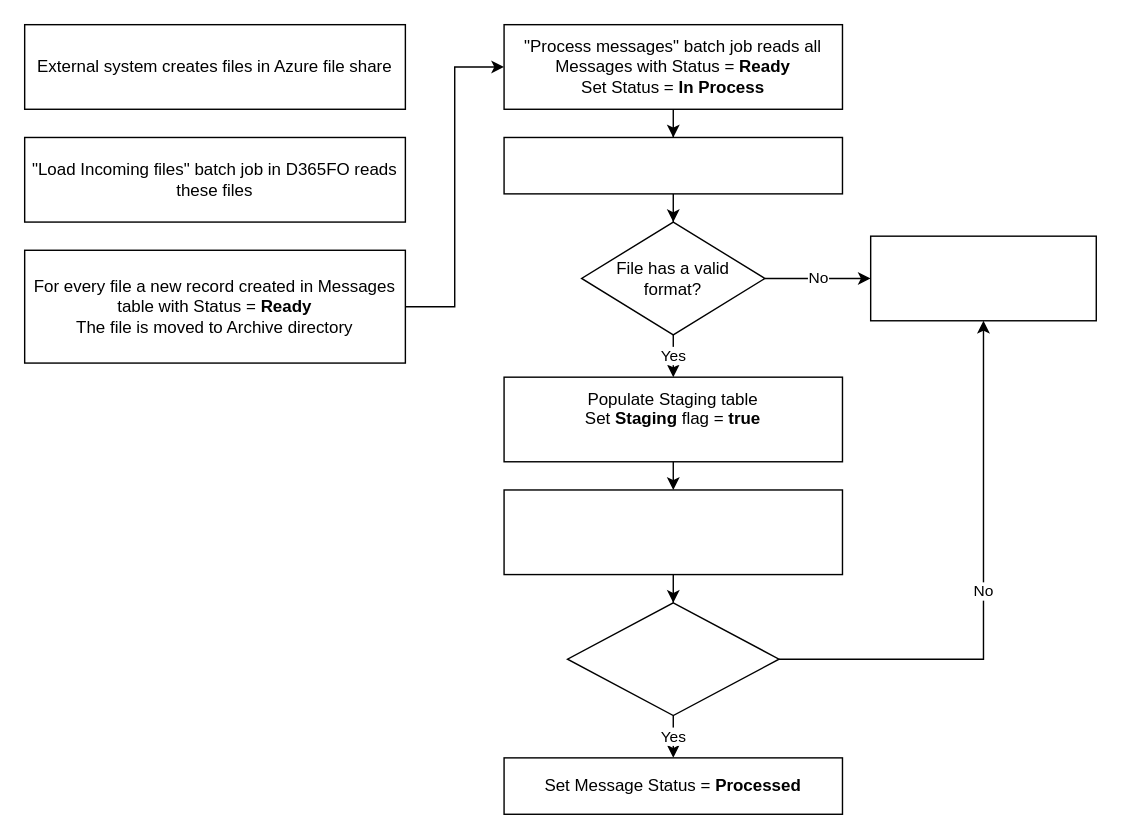
This 1121x839 diagram has some shape labels left out. The centre of each missing label's shape, as x and y in pixels:
"Ledger journal created?" belongs at (x=672, y=658).
"Set Message Status = Error" belongs at (x=982, y=278).
"Validate File structure" belongs at (x=672, y=165).
"Validate Staging data and create Ledger journal in D365FO" belongs at (x=672, y=532).
